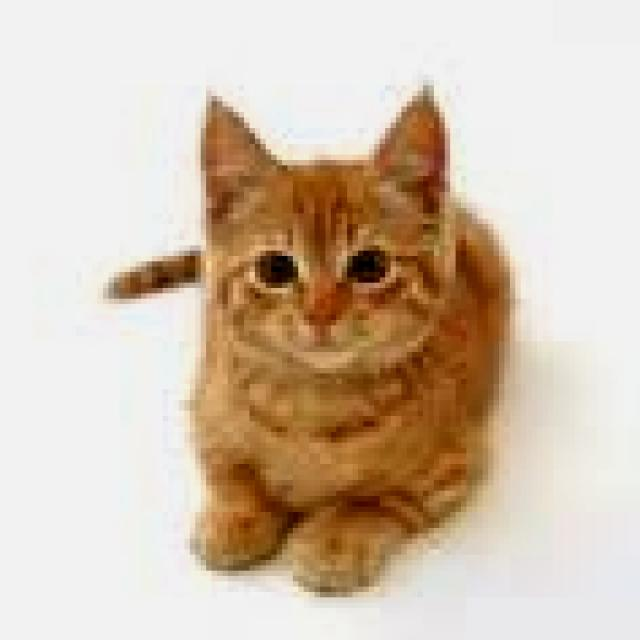KEDI: (109, 79, 514, 601)
